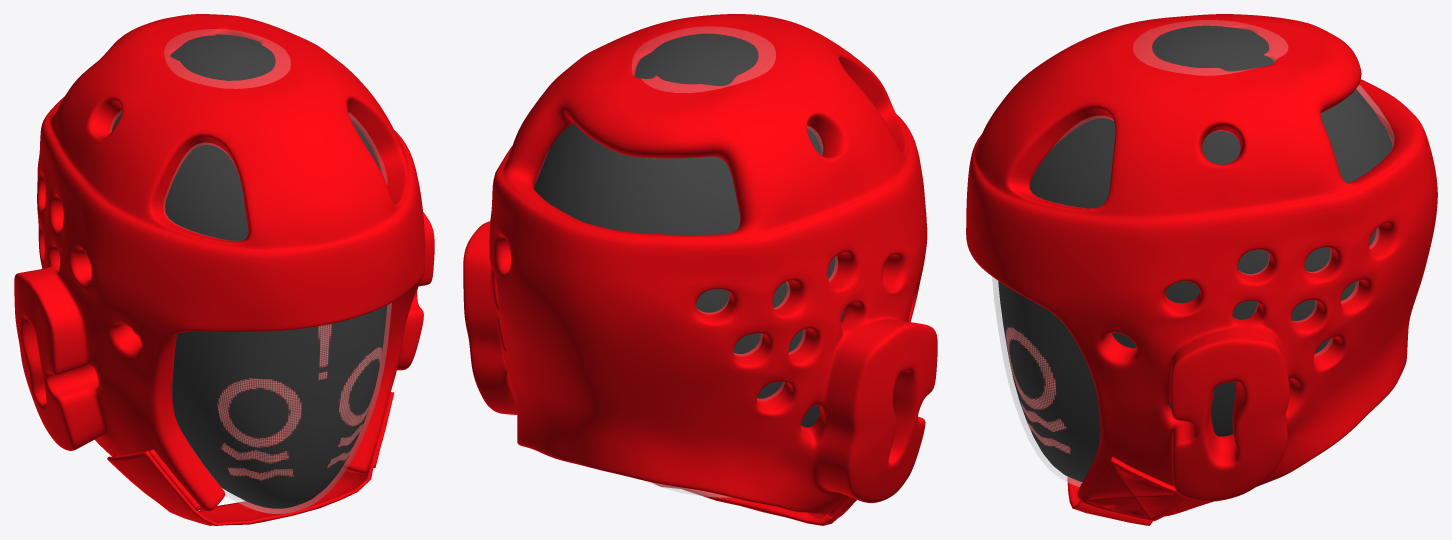
Rendered from surprised_guy.glb.
The picture shows the model from 3 angles, left to right: view 1: azimuth 30°, elevation 25°; view 2: azimuth 150°, elevation 25°; view 3: azimuth 270°, elevation 25°; orthographic projection. The views are drawn at different scales.
Visible parts, largest first — view 1: helmet, glass, angry_sphere, chinstrap; view 2: helmet, glass, angry_sphere, chinstrap; view 3: helmet, glass, angry_sphere, chinstrap.
Part boxes in pixels (x1=…): helmet: x1=14, y1=14, x2=434, y2=511; glass: x1=110, y1=29, x2=391, y2=513; angry_sphere: x1=112, y1=34, x2=387, y2=508; chinstrap: x1=107, y1=392, x2=394, y2=525; helmet: x1=463, y1=14, x2=937, y2=518; glass: x1=534, y1=26, x2=843, y2=497; angry_sphere: x1=534, y1=33, x2=843, y2=427; chinstrap: x1=652, y1=482, x2=856, y2=525; helmet: x1=966, y1=14, x2=1437, y2=516; glass: x1=992, y1=20, x2=1394, y2=486; angry_sphere: x1=998, y1=25, x2=1392, y2=481; chinstrap: x1=1067, y1=456, x2=1183, y2=525.
Bounding box in the file's own units: 0.5524 × 0.595 × 0.5547.
3 materials, 1 textured.
